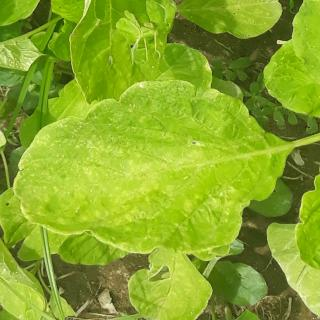karat_putih: (306, 0, 320, 91)
virus_keriting: (10, 75, 288, 260)
